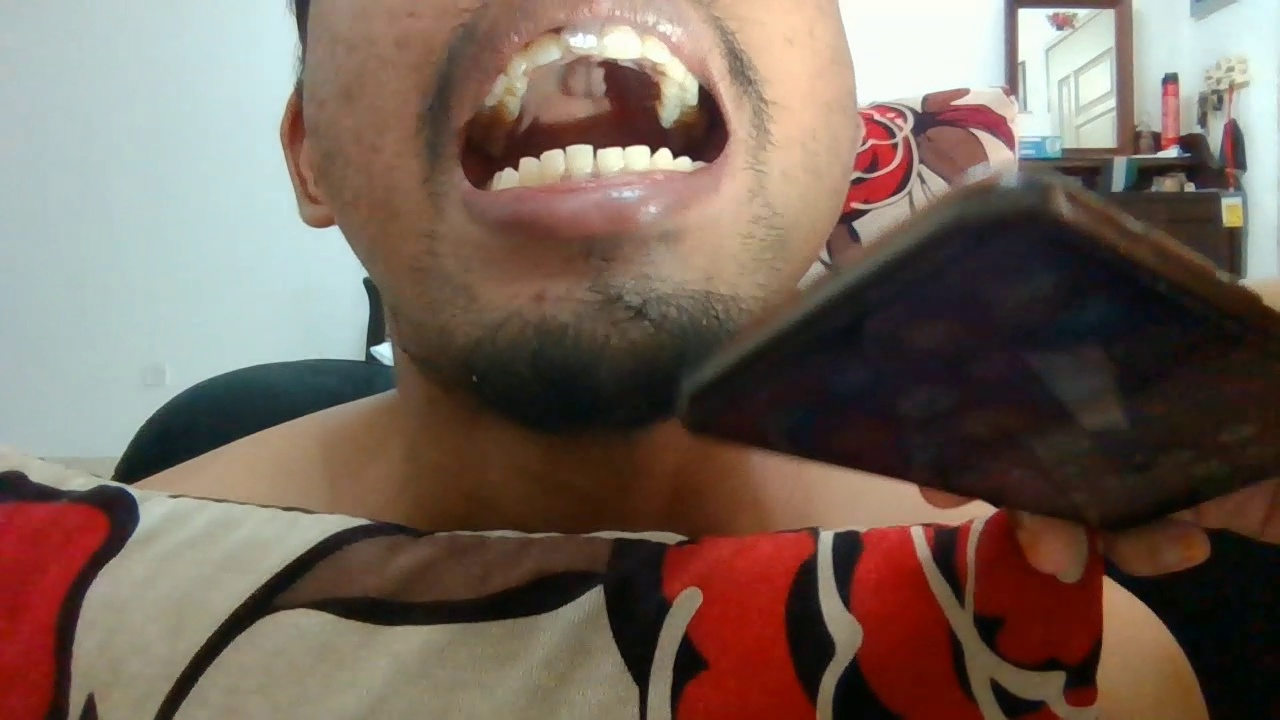1st Premolar: (660, 78, 700, 104), (494, 73, 525, 97), (498, 167, 518, 190), (675, 155, 693, 174)
2nd Premolar: (659, 102, 698, 124), (486, 97, 521, 117)
Canine: (652, 58, 688, 82), (518, 155, 540, 187), (651, 144, 675, 172), (504, 53, 527, 77)
Central Incisor: (601, 24, 643, 59), (560, 22, 600, 55), (594, 145, 625, 177), (566, 144, 594, 179)
Lateral Incisor: (525, 30, 561, 66), (643, 31, 672, 63), (540, 148, 566, 183), (625, 142, 652, 174)
